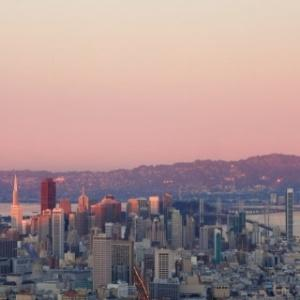drone: (8, 221, 68, 281)
